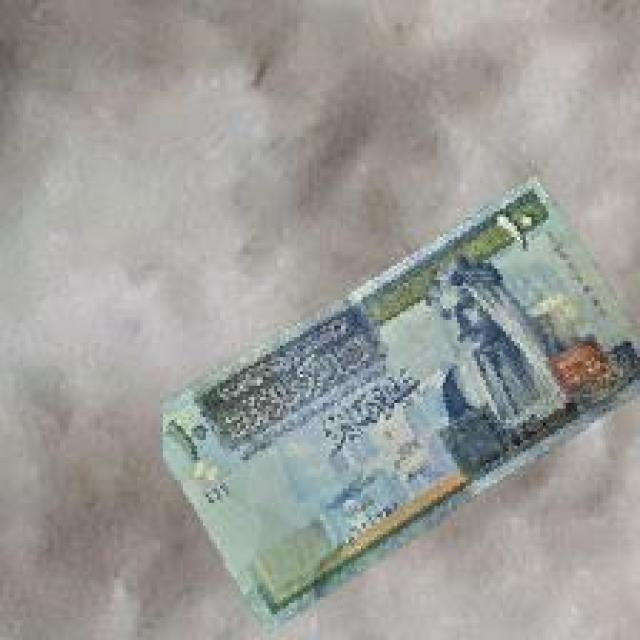10-dinar: (160, 174, 640, 637)
